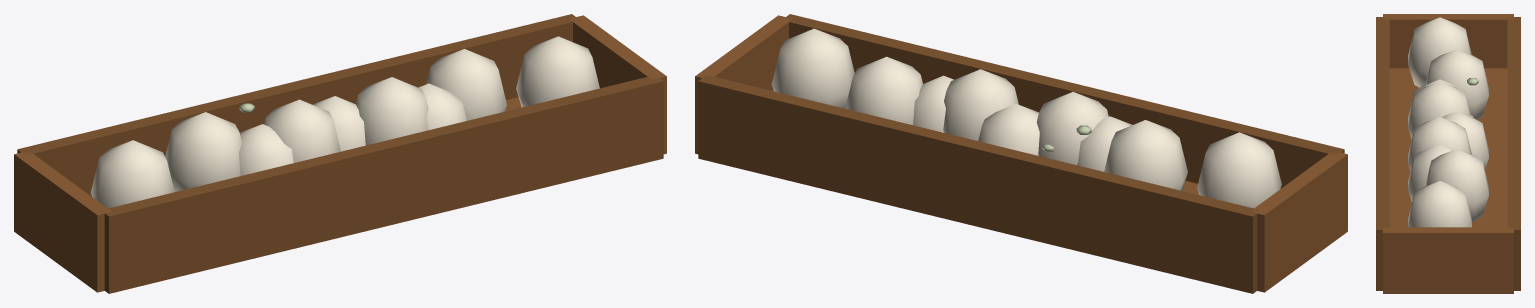
The model's file is Ranch_Egg.fbx.
The picture shows the model from 3 angles, left to right: view 1: azimuth 30°, elevation 25°; view 2: azimuth 150°, elevation 25°; view 3: azimuth 270°, elevation 25°; orthographic projection. The views are drawn at different scales.
Parts seen in each view (by area): view 1: Ranch_Egg__Stack, Ranch_Egg; view 2: Ranch_Egg__Stack, Ranch_Egg; view 3: Ranch_Egg__Stack, Ranch_Egg.
Boxes of the visible parts, x1,y1,x2,y2 form: Ranch_Egg__Stack: (14, 14, 666, 293); Ranch_Egg: (239, 83, 466, 175); Ranch_Egg__Stack: (695, 14, 1347, 293); Ranch_Egg: (913, 75, 1132, 171); Ranch_Egg__Stack: (1376, 14, 1520, 293); Ranch_Egg: (1408, 79, 1488, 201).
Bounding box in the file's own units: 0.308 × 0.056 × 0.086.
